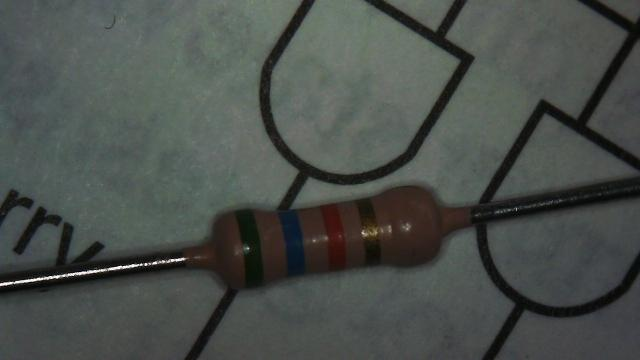blue: (279, 210, 306, 276)
gold: (356, 198, 380, 266)
green: (236, 208, 264, 288)
orange: (320, 202, 346, 270)
resistor: (179, 152, 475, 307)
